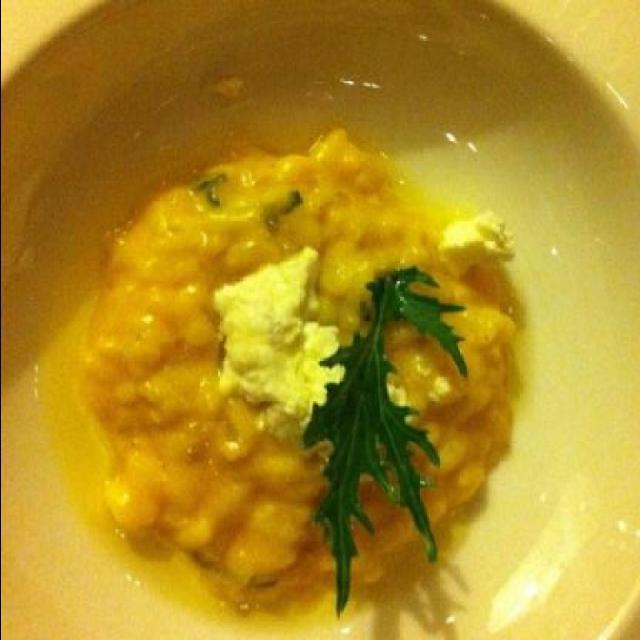Risotto: (98, 128, 510, 630)
